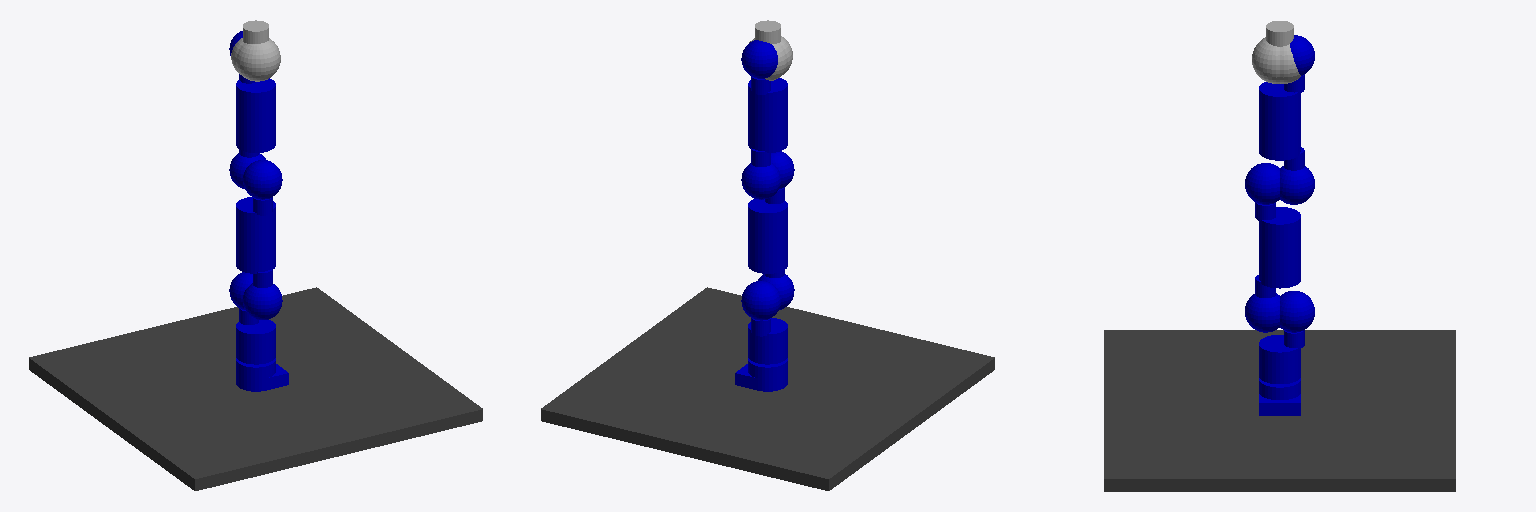
The robot description file, URDF, robot "lwr":
<?xml version="1.0" ?>
<robot name="lwr">
  <material name="DarkGrey">
    <color rgba="0.3 0.3 0.3 1.0"/>
  </material>
  <material name="Red">
    <color rgba="0.3 0.3 0.3 1.0"/>
  </material>
  <material name="Black">
    <color rgba="0 0 0 1.0"/>
  </material>
  <material name="Orange">
    <!--color rgba="1.0 0.487 0 1.0"/-->
    <color rgba="0.0 0.15 0.7 1.0"/>
  </material>
  <material name="Silver">
    <color rgba="1.0 1.0 1.0 1.0"/>
  </material>
  <material name="Grey">
    <color rgba="0.7 0.7 0.7 1.0"/>
  </material>
  <material name="Blue">
    <color rgba="0.0 0.0 0.8 1.0"/>
  </material>
  <material name="HandGray">
    <color rgba="0.953 0.996 0.694 1.0"/>
  </material>
  <material name="SickBlue">
    <color rgba="0.3058 0.5921 0.7294 1.0"/>
  </material>
  <property name="M_PI" value="3.1415926535897931" />

  <link name="base">
    <visual>
      <origin rpy="0 0 0" xyz="0 0 0"/>
      <geometry>
        <box size="1 1 0.04"/>
      </geometry>
      <material name="DarkGrey"/>
    </visual>
    <collision>
      <origin rpy="0 0 0" xyz="0 0 0"/>
      <geometry>
        <box size="1 1 0.04"/>
      </geometry>
    </collision>
  </link>

  

  <link name="lwr_arm_0_link">
    <inertial>
      <mass value="2.0"/>
      <origin xyz="0 0 0"/>
      <inertia ixx="0.00381666666667" ixy="0" ixz="0" iyy="0.0036" iyz="0" izz="0.00381666666667"/>
    </inertial>
    <visual>
      <origin rpy="0 0 0" xyz="-0.04 0 0.03"/>
      <geometry>
        <box size="0.08 0.12 0.06"/>
      </geometry>
      <material name="Blue"/>
    </visual>
    <visual>
      <origin rpy="0 0 0" xyz="0 0 0.05"/>
      <geometry>
        <cylinder length="0.1" radius="0.06"/>
      </geometry>
      <material name="Blue"/>
    </visual>

    <collision>
      <origin rpy="0 0 0" xyz="-0.04 0 0.03"/>
      <geometry>
        <box size="0.08 0.12 0.06"/>
      </geometry>
    </collision>
    <collision>
      <origin rpy="0 0 0" xyz="0 0 0.05"/>
      <geometry>
        <cylinder length="0.1" radius="0.06"/>
      </geometry>
    </collision>

  </link>

  <link name="lwr_arm_1_link">
    <inertial>
      <mass value="2.0"/>
      <origin rpy="0 0 0" xyz="0 -0.06 0.130"/>
      <inertia ixx="0.0136666666667" ixy="0" ixz="0" iyy="0.003" iyz="0" izz="0.0118666666667"/>
    </inertial>

    <visual>
      <origin rpy="0 0 0" xyz="0 0 0.05"/>
      <geometry>
        <cylinder length="0.1" radius="0.06"/>
      </geometry>
      <material name="Blue"/>
    </visual>
    <visual>
      <origin rpy="0 0 0" xyz="0 -0.04 0.12"/>
      <geometry>
        <cylinder length="0.05" radius="0.03"/>
      </geometry>
      <material name="Blue"/>
    </visual>
    <visual>
      <origin rpy="0 0 0" xyz="0 -0.04 0.2"/>
      <geometry>
        <sphere radius="0.06"/>
      </geometry>
      <material name="Blue"/>
    </visual>

    <collision>
      <origin rpy="0 0 0" xyz="0 0 0.05"/>
      <geometry>
        <cylinder length="0.1" radius="0.06"/>
      </geometry>
    </collision>
    <collision>
      <origin rpy="0 0 0" xyz="0 -0.04 0.2"/>
      <geometry>
        <sphere radius="0.06"/>
      </geometry>
    </collision>

  </link>

  <link name="lwr_arm_2_link">
    <inertial>
      <mass value="2.0"/>
      <origin rpy="0 0 0" xyz="0 0.06 0.07"/>
      <inertia ixx="0.0136666666667" ixy="0" ixz="0" iyy="0.003" iyz="0" izz="0.0118666666667"/>
    </inertial>

    <visual>
      <origin rpy="0 0 0" xyz="0 0 0.15"/>
      <geometry>
        <cylinder length="0.1" radius="0.06"/>
      </geometry>
      <material name="Blue"/>
    </visual>
    <visual>
      <origin rpy="0 0 0" xyz="0 0.04 0.08"/>
      <geometry>
        <cylinder length="0.05" radius="0.03"/>
      </geometry>
      <material name="Blue"/>
    </visual>
    <visual>
      <origin rpy="0 0 0" xyz="0 0.04 0"/>
      <geometry>
        <sphere radius="0.06"/>
      </geometry>
      <material name="Blue"/>
    </visual>

    <collision>
      <origin rpy="0 0 0" xyz="0 0 0.15"/>
      <geometry>
        <cylinder length="0.1" radius="0.06"/>
      </geometry>
    </collision>
    <collision>
      <origin rpy="0 0 0" xyz="0 0.04 0"/>
      <geometry>
        <sphere radius="0.06"/>
      </geometry>
    </collision>
  </link>
  
  <link name="lwr_arm_3_link">
    <inertial>
      <mass value="2.0"/>
      <origin rpy="0 0 0" xyz="0 0.06 0.130"/>
      <inertia ixx="0.0136666666667" ixy="0" ixz="0" iyy="0.003" iyz="0" izz="0.0118666666667"/>
    </inertial>

    <visual>
      <origin rpy="0 0 0" xyz="0 0 0.05"/>
      <geometry>
        <cylinder length="0.1" radius="0.06"/>
      </geometry>
      <material name="Blue"/>
    </visual>
    <visual>
      <origin rpy="0 0 0" xyz="0 0.04 0.12"/>
      <geometry>
        <cylinder length="0.05" radius="0.03"/>
      </geometry>
      <material name="Blue"/>
    </visual>
    <visual>
      <origin rpy="0 0 0" xyz="0 0.04 0.2"/>
      <geometry>
        <sphere radius="0.06"/>
      </geometry>
      <material name="Blue"/>
    </visual>

   <collision>
      <origin rpy="0 0 0" xyz="0 0 0.05"/>
      <geometry>
        <cylinder length="0.1" radius="0.06"/>
      </geometry>
    </collision>
    <collision>
      <origin rpy="0 0 0" xyz="0 0.04 0.2"/>
      <geometry>
        <sphere radius="0.06"/>
      </geometry>
    </collision>
  </link>


  <link name="lwr_arm_4_link">
    <inertial>
      <mass value="2.0"/>
      <origin rpy="0 0 0" xyz="0 -0.06 0.07"/>
      <inertia ixx="0.0136666666667" ixy="0" ixz="0" iyy="0.003" iyz="0" izz="0.0118666666667"/>
    </inertial>

    <visual>
      <origin rpy="0 0 0" xyz="0 0 0.15"/>
      <geometry>
        <cylinder length="0.1" radius="0.06"/>
      </geometry>
      <material name="Blue"/>
    </visual>
    <visual>
      <origin rpy="0 0 0" xyz="0 -0.04 0.08"/>
      <geometry>
        <cylinder length="0.05" radius="0.03"/>
      </geometry>
      <material name="Blue"/>
    </visual>
    <visual>
      <origin rpy="0 0 0" xyz="0 -0.04 0"/>
      <geometry>
        <sphere radius="0.06"/>
      </geometry>
      <material name="Blue"/>
    </visual>

    <collision>
      <origin rpy="0 0 0" xyz="0 0 0.15"/>
      <geometry>
        <cylinder length="0.1" radius="0.06"/>
      </geometry>
    </collision>
    <collision>
      <origin rpy="0 0 0" xyz="0 -0.04 0"/>
      <geometry>
        <sphere radius="0.06"/>
      </geometry>
    </collision>
  </link>
 

  <link name="lwr_arm_5_link">
    <inertial>
      <mass value="2.0"/>
      <origin rpy="0 0 0" xyz="0 0 0.124"/>
      <inertia ixx="0.0126506666667" ixy="0" ixz="0" iyy="0.003" iyz="0" izz="0.0108506666667"/>
    </inertial>

    <visual>
      <origin rpy="0 0 0" xyz="0 0 0.05"/>
      <geometry>
        <cylinder length="0.1" radius="0.06"/>
      </geometry>
      <material name="Blue"/>
    </visual>
    <visual>
      <origin rpy="0 0 0" xyz="0 -0.04 0.12"/>
      <geometry>
        <cylinder length="0.05" radius="0.03"/>
      </geometry>
      <material name="Blue"/>
    </visual>
    <visual>
      <origin rpy="0 0 0" xyz="0 -0.04 0.2"/>
      <geometry>
        <sphere radius="0.06"/>
      </geometry>
      <material name="Blue"/>
    </visual>

    <collision>
      <origin rpy="0 0 0" xyz="0 0 0.05"/>
      <geometry>
        <cylinder length="0.1" radius="0.06"/>
      </geometry>
    </collision>
    <collision>
      <origin rpy="0 0 0" xyz="0 -0.04 0.2"/>
      <geometry>
        <sphere radius="0.06"/>
      </geometry>
    </collision>

  </link>
 
  <link name="lwr_arm_6_link">
    <inertial>
      <mass value="0.2"/>
      <origin rpy="0 0 0" xyz="0 0 0.0625"/>
      <inertia ixx="0.000520833333333" ixy="0" ixz="0" iyy="0.000520833333333" iyz="0" izz="0.000520833333333"/>
    </inertial>

    <visual>
      <origin rpy="0 0 0" xyz="0 0.01 0"/>
      <geometry>
        <sphere radius="0.07"/>
      </geometry>
      <material name="Grey"/>
    </visual>
    <visual>
      <origin rpy="0 0 0" xyz="0 -0.01 0"/>
      <geometry>
        <sphere radius="0.07"/>
      </geometry>
      <material name="Grey"/>
    </visual>

    <collision>
      <origin rpy="0 0 0" xyz="0 0.01 0"/>
      <geometry>
        <sphere radius="0.07"/>
      </geometry>
      <material name="Grey"/>
    </collision>
    <collision>
      <origin rpy="0 0 0" xyz="0 -0.01 0"/>
      <geometry>
        <sphere radius="0.07"/>
      </geometry>
    </collision>

  </link>
 
  <link name="lwr_arm_7_link">
    <inertial>
      <mass value="0.2"/>
      <origin xyz="0 0 0"/>
      <inertia ixx="0.0333333333333" ixy="0" ixz="0" iyy="0.0333333333333" iyz="0" izz="0.0333333333333"/>
    </inertial>
    <visual>
      <origin rpy="0 0 -0.785398163397" xyz="0 0 0"/>
      <geometry>
        <cylinder length="0.05" radius="0.04"/>
      </geometry>
      <material name="Grey"/>
    </visual>
    <collision>
      <origin rpy="0 0 -0.785398163397" xyz="0 0 0"/>
      <geometry>
        <cylinder length="0.05" radius="0.04"/>
      </geometry>
    </collision>
  </link>


  <joint name="base_joint" type="fixed">
    <origin rpy="0 0 3.14159265359" xyz="0 0 0"/>
    <parent link="base"/>
    <child link="lwr_arm_0_link"/>
  </joint>
  <joint name="lwr_arm_0_joint" type="revolute">
    <origin rpy="0 0 0" xyz="0 0 0.11"/>
    <axis xyz="0 0 1"/>
    <limit effort="204" lower="-2.96705972839" upper="2.96705972839" velocity="1.91986217719"/>
    <safety_controller k_position="30" k_velocity="30" soft_lower_limit="-2.93215314335" soft_upper_limit="2.93215314335"/>
    <dynamics damping="1.0"/>
    <parent link="lwr_arm_0_link"/>
    <child link="lwr_arm_1_link"/>
  </joint>
  <joint name="lwr_arm_1_joint" type="revolute">
    <origin rpy="0 0 0" xyz="0 0 0.2005"/>
    <axis xyz="0 1 0"/>
    <limit effort="306" lower="-2.09439510239" upper="2.09439510239" velocity="1.91986217719"/>
    <safety_controller k_position="30" k_velocity="30" soft_lower_limit="-2.05948851735" soft_upper_limit="2.05948851735"/>
    <dynamics damping="1.0" friction="10"/>
    <parent link="lwr_arm_1_link"/>
    <child link="lwr_arm_2_link"/>
  </joint>
  <joint name="lwr_arm_2_joint" type="revolute">
    <origin rpy="0 0 0" xyz="0 0 0.20"/>
    <axis xyz="0 0 1"/>
    <limit effort="204" lower="-2.96705972839" upper="2.96705972839" velocity="2.26892802759"/>
    <safety_controller k_position="30" k_velocity="30" soft_lower_limit="-2.93215314335" soft_upper_limit="2.93215314335"/>
    <dynamics damping="1.0"/>
    <parent link="lwr_arm_2_link"/>
    <child link="lwr_arm_3_link"/>
  </joint>
  <joint name="lwr_arm_3_joint" type="revolute">
    <origin rpy="0 0 0" xyz="0 0 0.20"/>
    <axis xyz="0 -1 0"/>
    <limit effort="306" lower="-2.09439510239" upper="2.09439510239" velocity="2.26892802759"/>
    <safety_controller k_position="30" k_velocity="30" soft_lower_limit="-2.05948851735" soft_upper_limit="2.05948851735"/>
    <dynamics damping="1.0"/>
    <parent link="lwr_arm_3_link"/>
    <child link="lwr_arm_4_link"/>
  </joint>
  <joint name="lwr_arm_4_joint" type="revolute">
    <origin rpy="0 0 0" xyz="0 0 0.20"/>
    <axis xyz="0 0 1"/>
    <limit effort="204" lower="-2.96705972839" upper="2.96705972839" velocity="2.26892802759"/>
    <safety_controller k_position="30" k_velocity="30" soft_lower_limit="-2.93215314335" soft_upper_limit="2.93215314335"/>
    <dynamics damping="1.0"/>
    <parent link="lwr_arm_4_link"/>
    <child link="lwr_arm_5_link"/>
  </joint>
  <joint name="lwr_arm_5_joint" type="revolute">
    <origin rpy="0 0 0" xyz="0 0 0.19"/>
    <axis xyz="0 1 0"/>
    <limit effort="306" lower="-2.09439510239" upper="2.09439510239" velocity="3.14159265359"/>
    <safety_controller k_position="30" k_velocity="30" soft_lower_limit="-2.05948851735" soft_upper_limit="2.05948851735"/>
    <dynamics damping="1.0"/>
    <parent link="lwr_arm_5_link"/>
    <child link="lwr_arm_6_link"/>
  </joint>
  <joint name="lwr_arm_6_joint" type="revolute">
    <origin rpy="0 0 0" xyz="0 0 0.078"/>
    <axis xyz="0 0 1"/>
    <limit effort="204" lower="-2.96705972839" upper="2.96705972839" velocity="3.14159265359"/>
    <safety_controller k_position="30" k_velocity="30" soft_lower_limit="-2.93215314335" soft_upper_limit="2.93215314335"/>
    <dynamics damping="1.0"/>
    <parent link="lwr_arm_6_link"/>
    <child link="lwr_arm_7_link"/>
  </joint>

</robot>

--- Facts derived from the render (not from the file) ---
3 views of the same robot in one strip: view 1: azimuth 30°, elevation 25°; view 2: azimuth 150°, elevation 25°; view 3: azimuth 270°, elevation 25° (orthographic).
Robot: lwr — 9 links, 8 joints (7 revolute, 1 fixed); root link base; default pose: every joint at zero.
Links seen in each view (by area): view 1: base, lwr_arm_3_link, lwr_arm_2_link, lwr_arm_1_link, lwr_arm_4_link, lwr_arm_5_link, lwr_arm_6_link, lwr_arm_0_link, lwr_arm_7_link; view 2: base, lwr_arm_1_link, lwr_arm_5_link, lwr_arm_4_link, lwr_arm_3_link, lwr_arm_2_link, lwr_arm_0_link, lwr_arm_6_link, lwr_arm_7_link; view 3: base, lwr_arm_1_link, lwr_arm_3_link, lwr_arm_2_link, lwr_arm_4_link, lwr_arm_5_link, lwr_arm_6_link, lwr_arm_0_link, lwr_arm_7_link.
Link boxes in pixels (<box>): base: <box>29,287,482,490</box>; lwr_arm_3_link: <box>236,160,282,243</box>; lwr_arm_2_link: <box>236,237,282,319</box>; lwr_arm_1_link: <box>229,272,275,364</box>; lwr_arm_4_link: <box>229,116,275,188</box>; lwr_arm_5_link: <box>229,31,275,122</box>; lwr_arm_6_link: <box>231,38,280,81</box>; lwr_arm_0_link: <box>236,358,288,391</box>; lwr_arm_7_link: <box>243,20,268,43</box>; base: <box>541,287,994,490</box>; lwr_arm_1_link: <box>741,281,787,364</box>; lwr_arm_5_link: <box>741,40,787,122</box>; lwr_arm_4_link: <box>741,116,787,199</box>; lwr_arm_3_link: <box>748,151,794,243</box>; lwr_arm_2_link: <box>748,237,794,309</box>; lwr_arm_0_link: <box>735,358,787,391</box>; lwr_arm_6_link: <box>749,36,792,80</box>; lwr_arm_7_link: <box>755,20,780,43</box>; base: <box>1104,330,1455,491</box>; lwr_arm_1_link: <box>1259,291,1314,383</box>; lwr_arm_3_link: <box>1245,163,1300,256</box>; lwr_arm_2_link: <box>1245,250,1300,332</box>; lwr_arm_4_link: <box>1259,122,1314,204</box>; lwr_arm_5_link: <box>1259,35,1314,128</box>; lwr_arm_6_link: <box>1252,37,1300,83</box>; lwr_arm_0_link: <box>1259,378,1300,415</box>; lwr_arm_7_link: <box>1266,21,1293,46</box>.
Bounding box of the posed robot: 1 × 1 × 1.22 m (x, y, z).
Geometry: primitives only (box / cylinder / sphere), no mesh files.